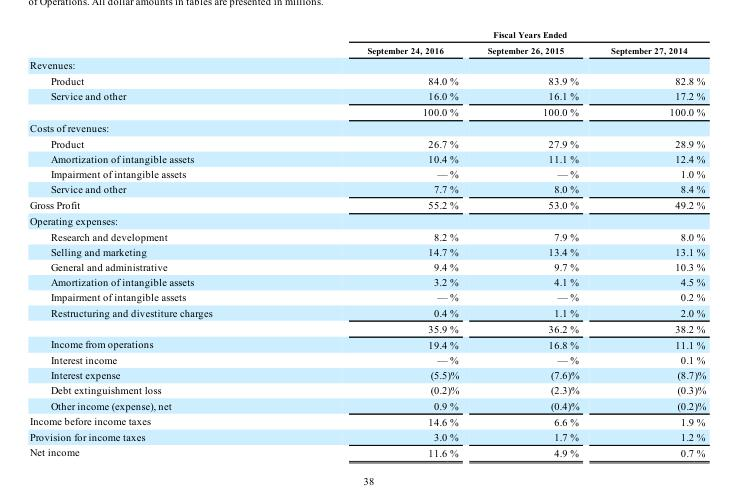table: (29, 28, 705, 458)
table column: (29, 28, 289, 458), (289, 28, 472, 458), (472, 28, 594, 458), (594, 28, 705, 458)
table column header: (29, 28, 705, 56)
table projected row header: (29, 56, 705, 72), (29, 119, 705, 135), (29, 212, 705, 228)
table row: (29, 56, 705, 72), (29, 72, 705, 88), (29, 103, 705, 119), (29, 119, 705, 135), (29, 165, 705, 181), (29, 196, 705, 212), (29, 212, 705, 228), (29, 258, 705, 274), (29, 304, 705, 320), (29, 335, 705, 351), (29, 351, 705, 367), (29, 412, 705, 428), (29, 428, 705, 444), (29, 41, 705, 56), (29, 88, 705, 103), (29, 135, 705, 150), (29, 150, 705, 165), (29, 181, 705, 196), (29, 228, 705, 243), (29, 243, 705, 258), (29, 274, 705, 289), (29, 289, 705, 304), (29, 320, 705, 335), (29, 367, 705, 382), (29, 382, 705, 397), (29, 397, 705, 412), (29, 444, 705, 458), (29, 28, 705, 41)
table spanning cell: (289, 28, 705, 41)
